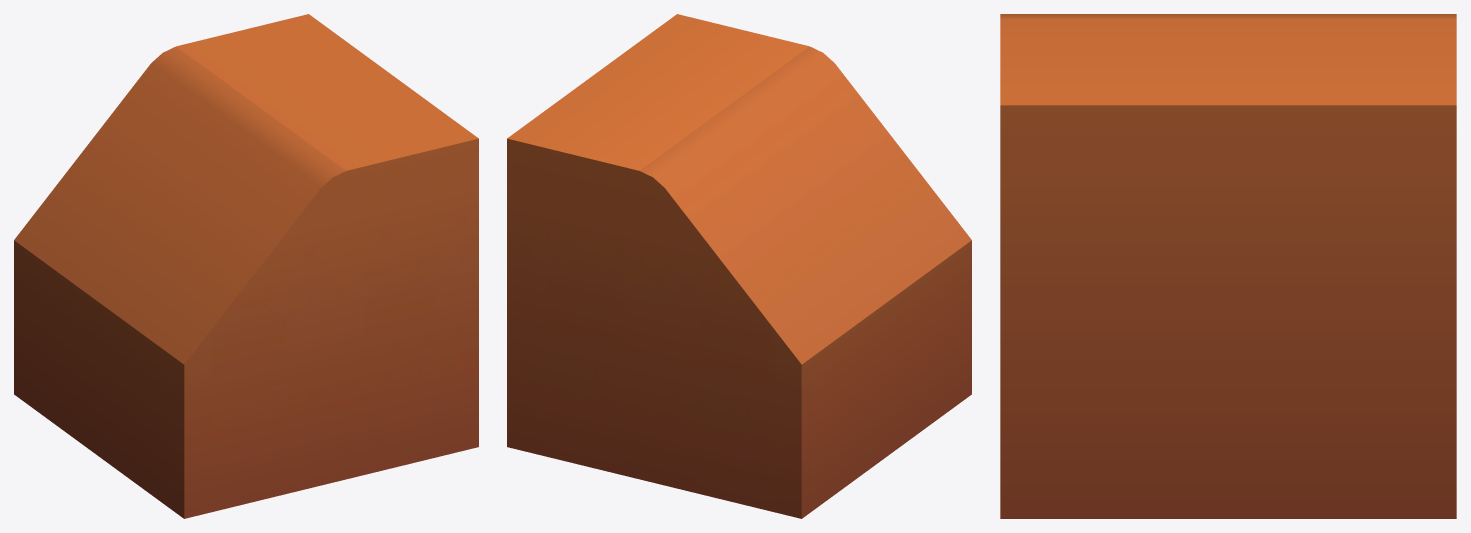
File: terrain_slope.glb
3 renders of one model, left to right at view 1: azimuth 30°, elevation 25°; view 2: azimuth 150°, elevation 25°; view 3: azimuth 270°, elevation 25°, orthographic. The views are drawn at different scales.
Visible parts, largest first — view 1: terrain_slope_Cube.15116; view 2: terrain_slope_Cube.15116; view 3: terrain_slope_Cube.15116.
Part boxes in pixels (<box>): terrain_slope_Cube.15116: <box>14,14,478,518</box>; terrain_slope_Cube.15116: <box>507,14,971,518</box>; terrain_slope_Cube.15116: <box>1000,14,1456,518</box>.
Bounding box in the file's own units: 2 × 2 × 2.
Materials: 1 (1 with a texture image).
